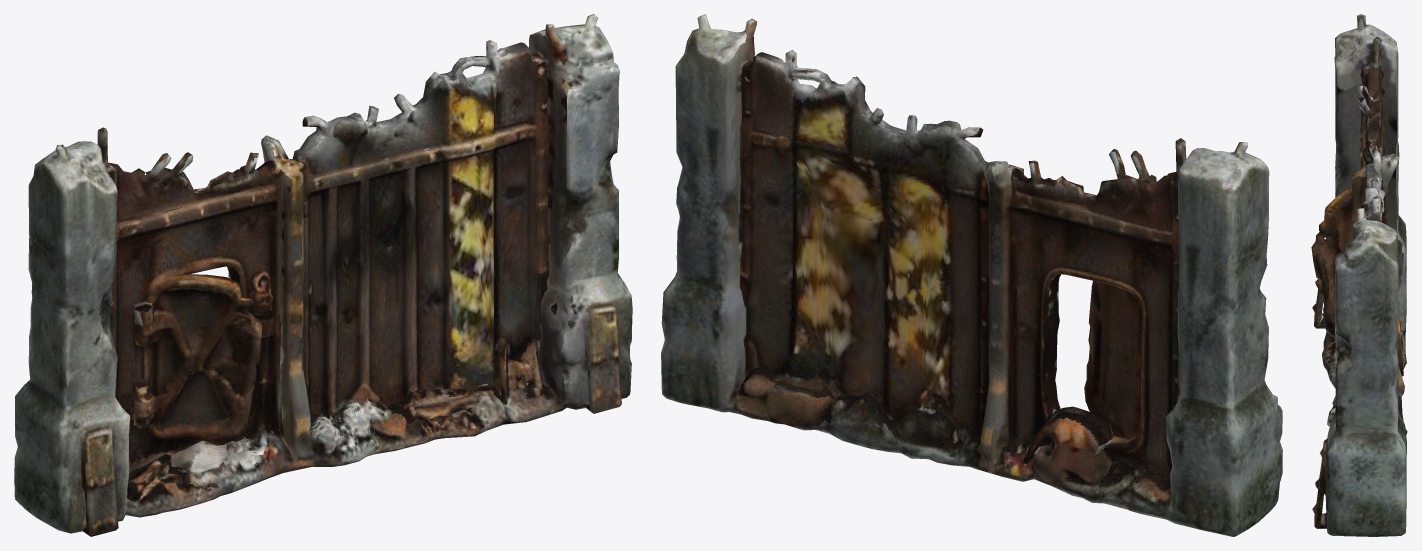
The model's file is t5-wall-bulkhead.glb.
3 renders of one model, left to right at view 1: azimuth 30°, elevation 25°; view 2: azimuth 150°, elevation 25°; view 3: azimuth 270°, elevation 25°, orthographic. The views are drawn at different scales.
Parts seen in each view (by area): view 1: t5-wall-bulkhead.glb; view 2: t5-wall-bulkhead.glb; view 3: t5-wall-bulkhead.glb.
Boxes of the visible parts, bbox=[...] form: t5-wall-bulkhead.glb: bbox=[14, 14, 632, 536]; t5-wall-bulkhead.glb: bbox=[661, 14, 1282, 536]; t5-wall-bulkhead.glb: bbox=[1311, 14, 1407, 536].
Size of the model in its own units: 1 by 0.6178 by 0.1768.
1 material, 1 textured.
